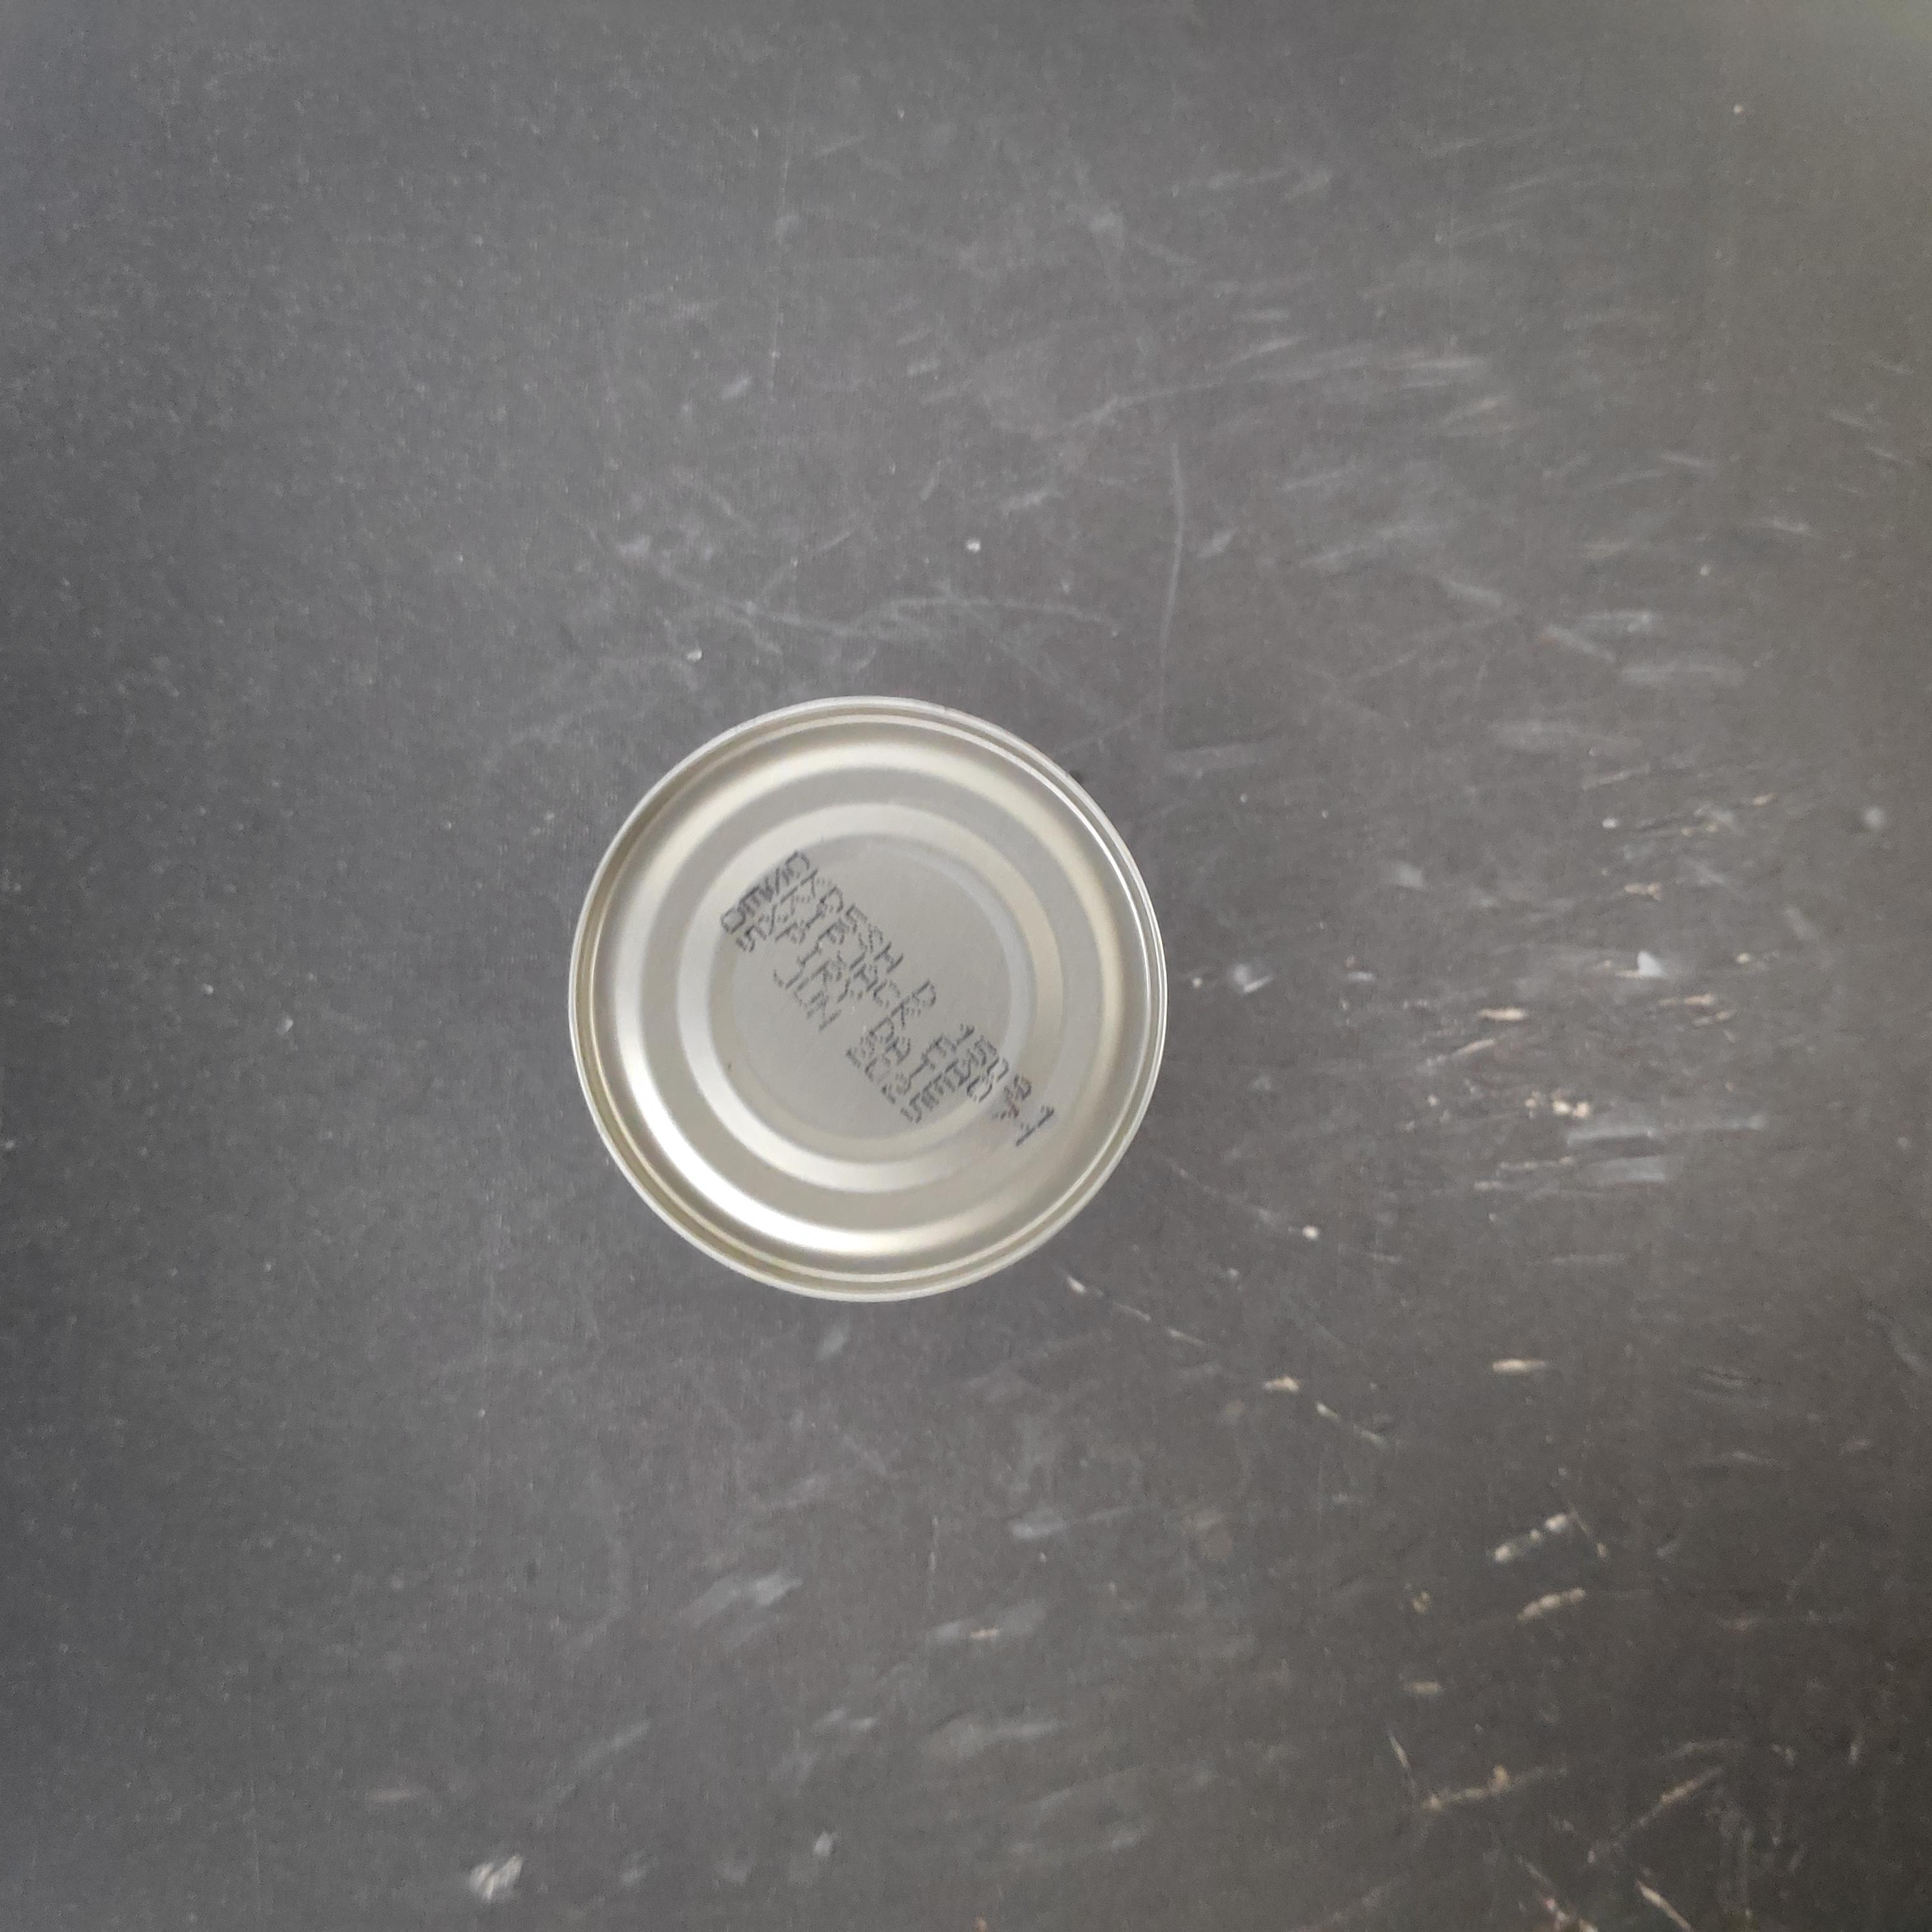No defect: (755, 624, 1381, 1249)
